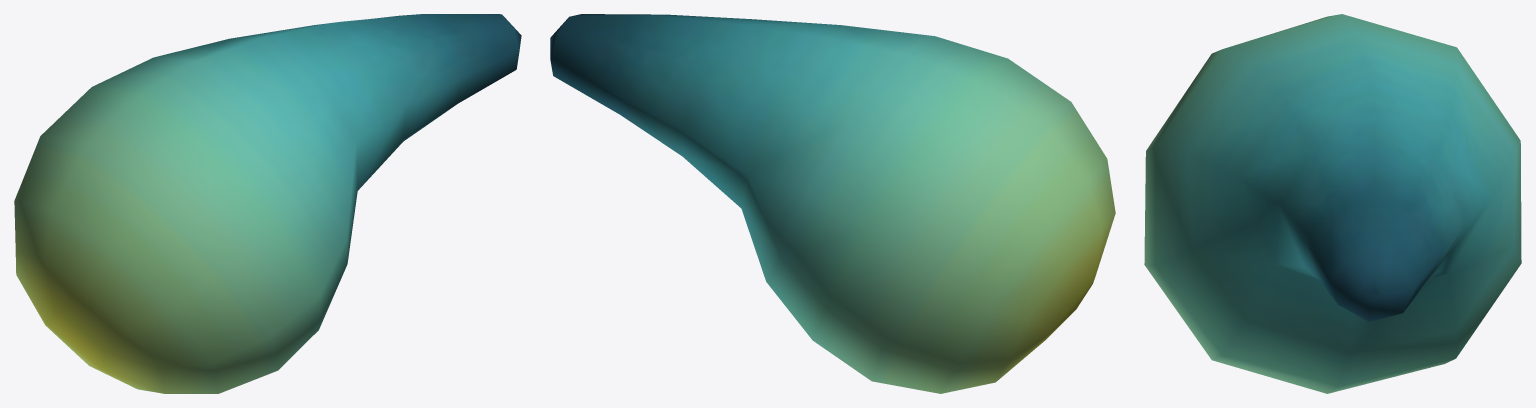
Rendered from chaoLArm.obj.
3 renders of one model, left to right at view 1: azimuth 30°, elevation 25°; view 2: azimuth 150°, elevation 25°; view 3: azimuth 270°, elevation 25°, orthographic. The views are drawn at different scales.
Parts seen in each view (by area): view 1: chd_b_M.003; view 2: chd_b_M.003; view 3: chd_b_M.003.
Boxes of the visible parts, x1=… form: chd_b_M.003: x1=14, y1=14, x2=521, y2=393; chd_b_M.003: x1=550, y1=14, x2=1115, y2=393; chd_b_M.003: x1=1144, y1=14, x2=1521, y2=393.
Bounding box in the file's own units: 4.22 × 2.46 × 2.33.
Materials: 1 (1 with a texture image).
